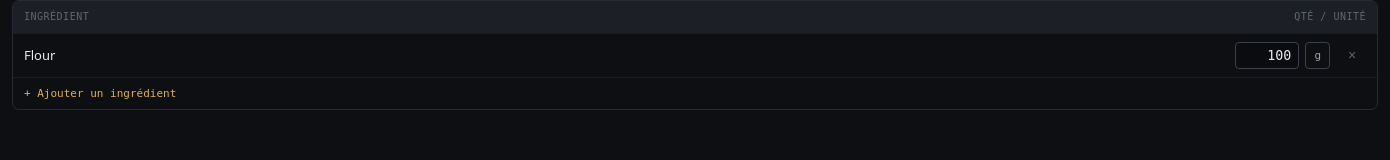
Test: IngredientBlock — edit ingredient (B-034) › clicking an added ingredient name flips the line to the picker
Click the text "Flour" at (40, 55), box [24,46,55,64]
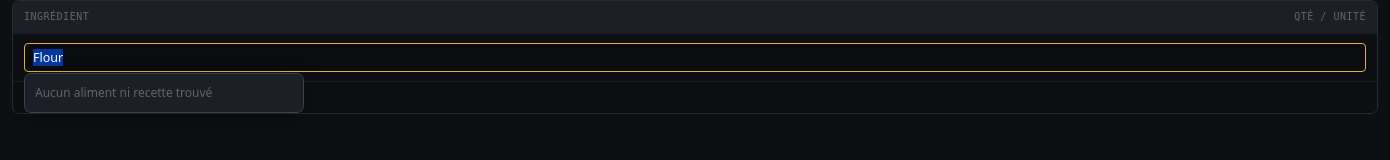
Expected: the dropdown is shown, [24,42,1366,72]
